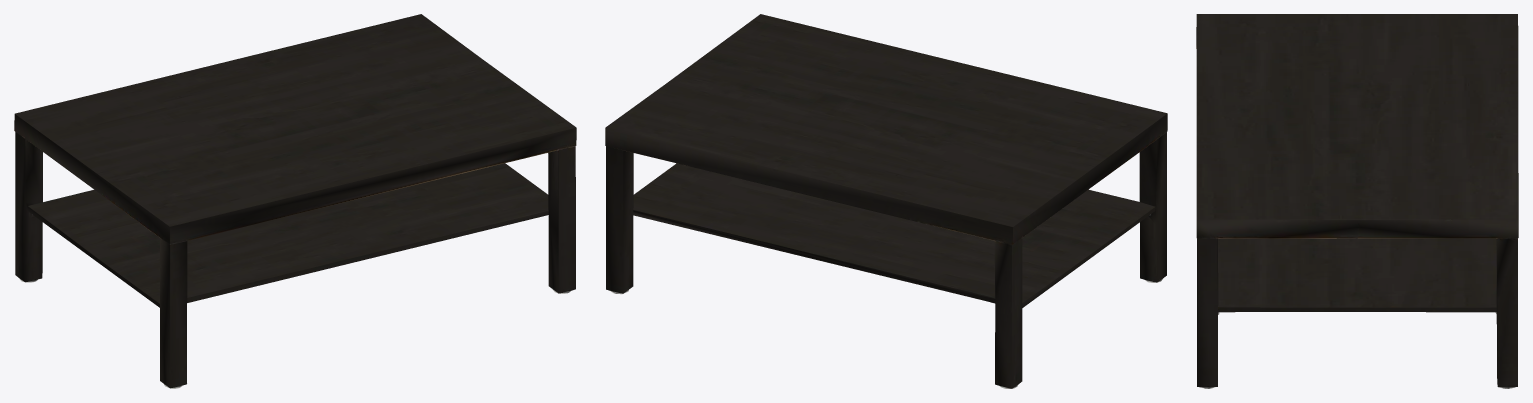
3 renders of one model, left to right at view 1: azimuth 30°, elevation 25°; view 2: azimuth 150°, elevation 25°; view 3: azimuth 270°, elevation 25°, orthographic. The views are drawn at different scales.
Parts seen in each view (by area): view 1: ProcessedMeshNode; view 2: ProcessedMeshNode; view 3: ProcessedMeshNode.
Boxes of the visible parts, x1,y1,x2,y2 form: ProcessedMeshNode: [14, 14, 576, 388]; ProcessedMeshNode: [605, 14, 1167, 388]; ProcessedMeshNode: [1196, 14, 1518, 388].
Bounding box in the file's own units: 1.18 × 0.4553 × 0.7807.
Materials: 1 (1 with a texture image).
